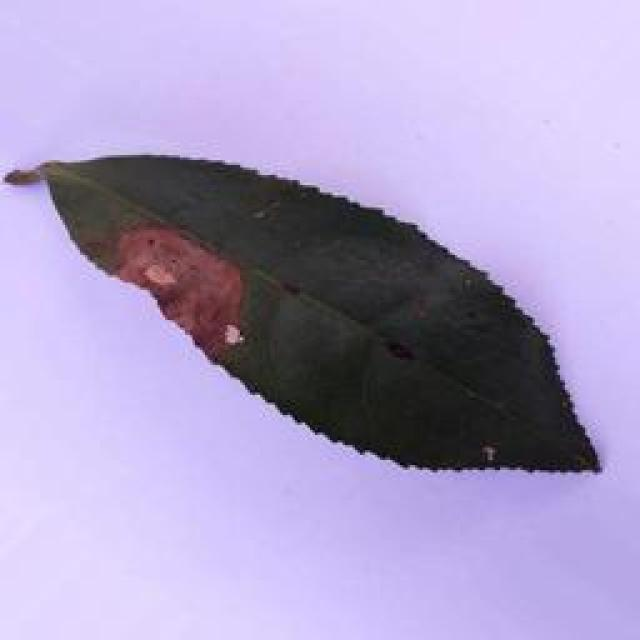Gray Blight: (3, 155, 605, 477)
